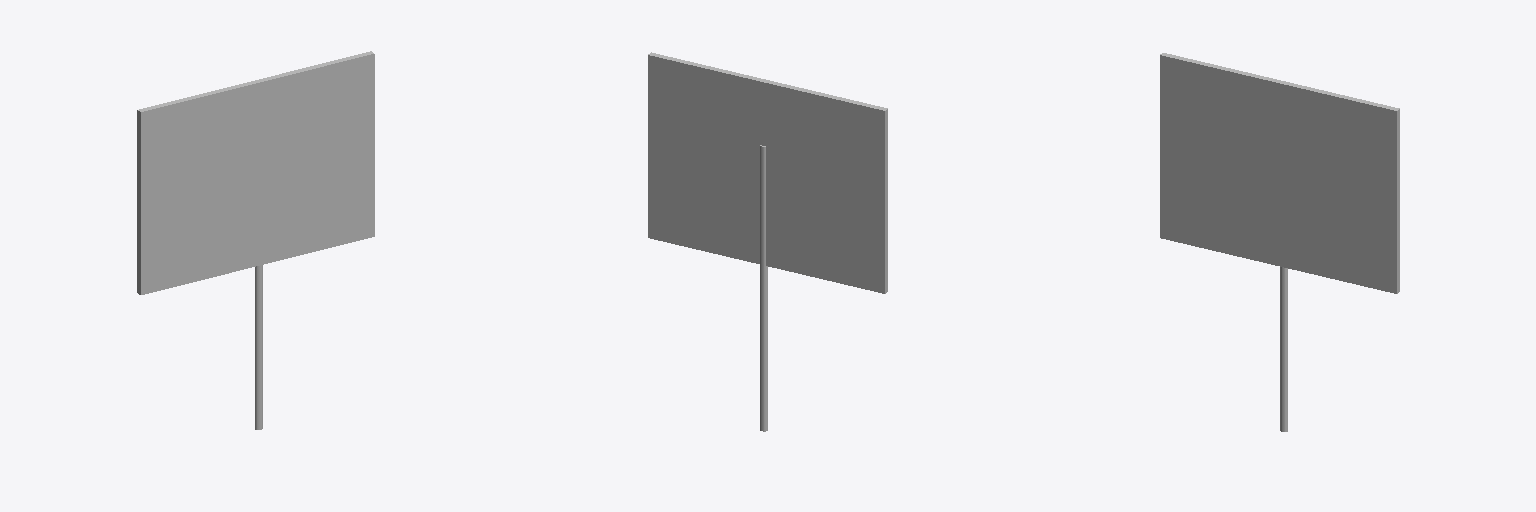
File: board_32.obj
3 renders of one model, left to right at view 1: azimuth 30°, elevation 25°; view 2: azimuth 150°, elevation 25°; view 3: azimuth 330°, elevation 25°, orthographic.
Visible parts, largest first — view 1: Cube.006_Cube.007, Cylinder.006; view 2: Cube.006_Cube.007, Cylinder.006; view 3: Cube.006_Cube.007, Cylinder.006.
Boxes of the visible parts, x1=… form: Cube.006_Cube.007: x1=137, y1=51, x2=374, y2=294; Cylinder.006: x1=255, y1=265, x2=262, y2=429; Cube.006_Cube.007: x1=648, y1=52, x2=887, y2=293; Cylinder.006: x1=760, y1=145, x2=767, y2=431; Cube.006_Cube.007: x1=1160, y1=53, x2=1399, y2=293; Cylinder.006: x1=1280, y1=267, x2=1287, y2=431.
Bounding box in the file's own units: 0.4517 × 0.6384 × 0.0174.